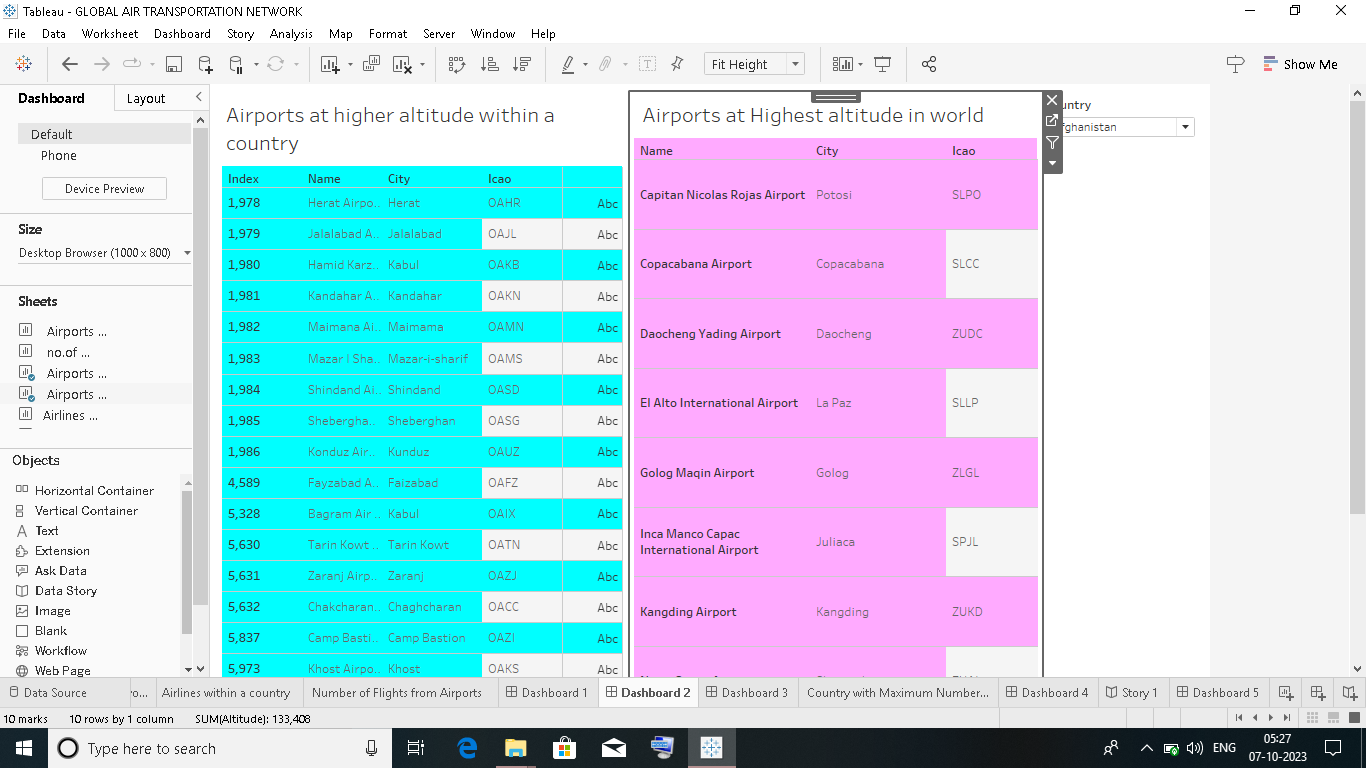

The page's visual inventory and layout, read from the dashboard file:
{"tool":"tableau","page":{"name":"Dashboard 2","canvas":[1000,800],"ordinal":1},"visuals":[{"type":"worksheet","title":" Airports at higher altitude within a country","mark":"Automatic","rows":["index","Name","City","ICAO"],"box":[8,8,412,784]},{"type":"worksheet","title":" Airports at Highest altitude in world","mark":"Automatic","rows":["Name","City","ICAO"],"box":[420,8,412,784]},{"type":"filter","title":" Airports at higher altitude within a country","param":"[federated.1a1zrgq1lutcvu1c68p7n0bjfrti].[none:Country:nk]","box":[832,8,160,52]}]}

Visuals, with their boxes on the page's 1000x800 design canvas (x1, y1, x2, y2). These are canvas units, not pixel positions in the 1366x768 screenshot, which may show the page scaled, cropped or inside an application window:
" Airports at higher altitude within a country" worksheet: (left=8, top=8, right=420, bottom=792)
" Airports at Highest altitude in world" worksheet: (left=420, top=8, right=832, bottom=792)
" Airports at higher altitude within a country" filter: (left=832, top=8, right=992, bottom=60)
